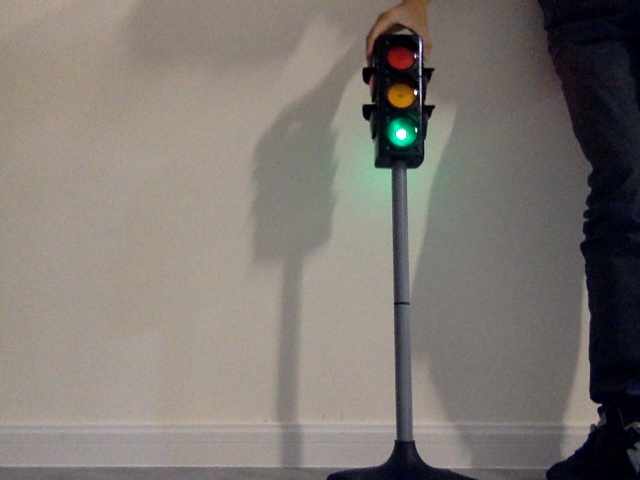green: (380, 42, 421, 154)
